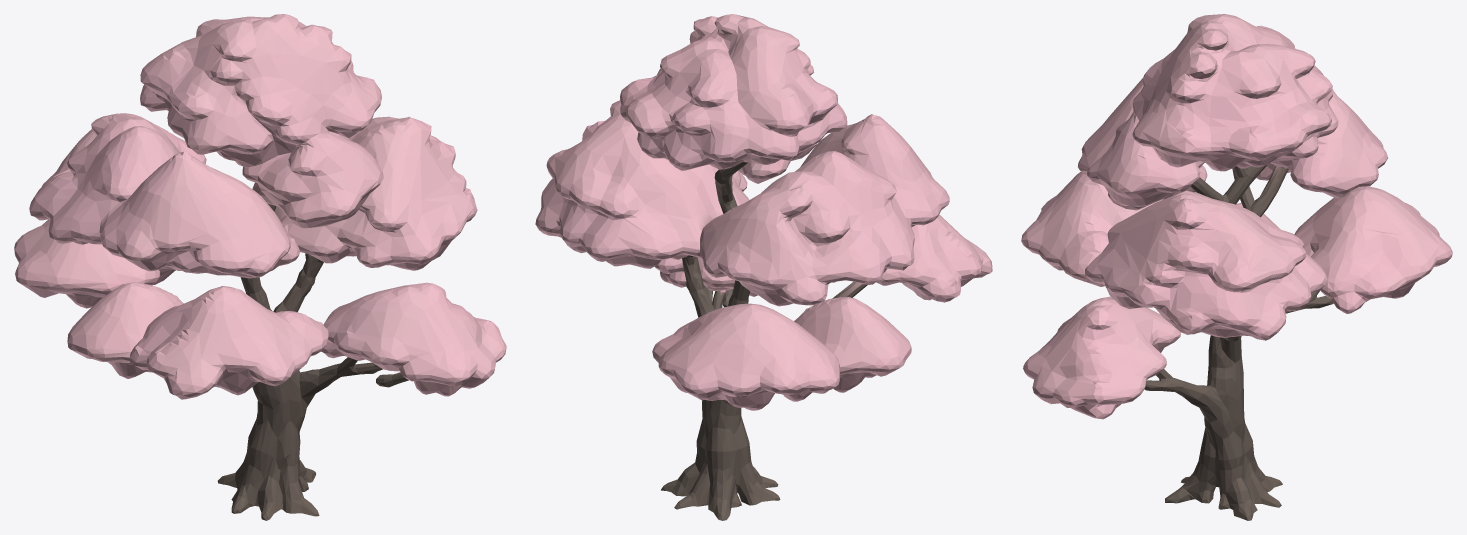
Rendered from cherry_tree.glb.
3 views of the same model, side by side, from view 1: azimuth 30°, elevation 25°; view 2: azimuth 150°, elevation 25°; view 3: azimuth 270°, elevation 25° (orthographic). The views are drawn at different scales.
Visible parts, largest first — view 1: cherry_tree; view 2: cherry_tree; view 3: cherry_tree.
Boxes of the visible parts, box(x1,y1,x2,y2) form: cherry_tree: box(14, 14, 506, 520); cherry_tree: box(535, 14, 992, 520); cherry_tree: box(1021, 14, 1452, 520).
Size of the model in its own units: 5.47 by 6.5 by 5.46.
Materials: 1 (1 with a texture image).
